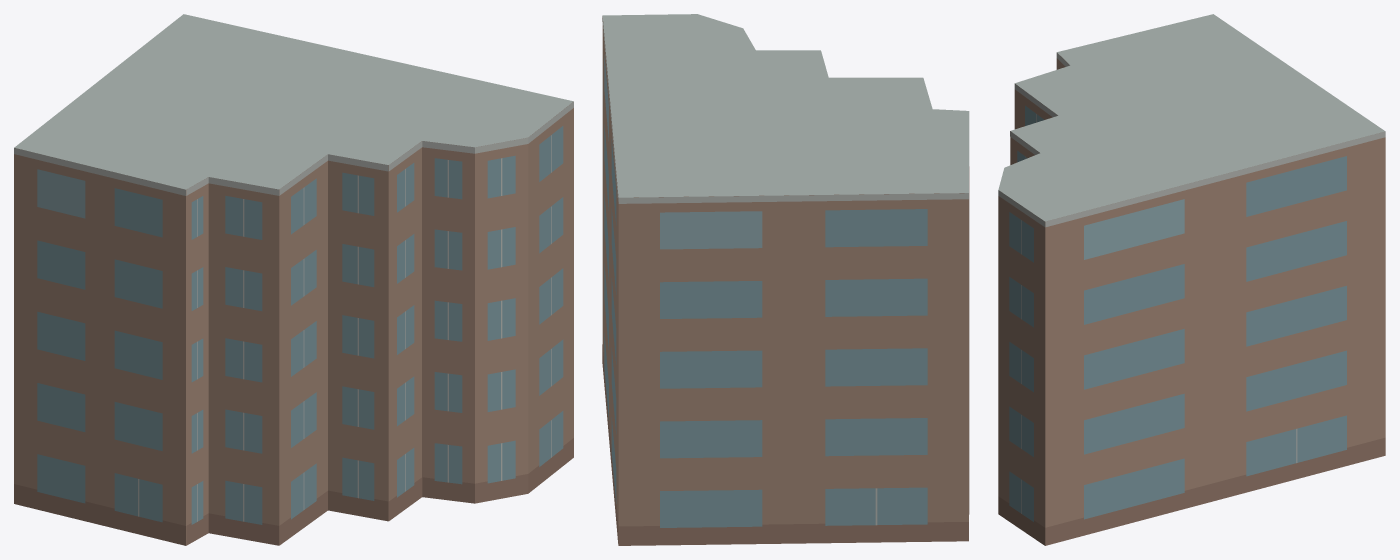
Rendered from survey-upis-32768929.glb.
3 views of the same model, side by side, from view 1: azimuth 30°, elevation 25°; view 2: azimuth 150°, elevation 25°; view 3: azimuth 270°, elevation 25° (orthographic). The views are drawn at different scales.
Visible parts, largest first — view 1: survey-upis-32768929.tmp; view 2: survey-upis-32768929.tmp; view 3: survey-upis-32768929.tmp.
Boxes of the visible parts, x1=… form: survey-upis-32768929.tmp: x1=14, y1=14, x2=573, y2=545; survey-upis-32768929.tmp: x1=602, y1=14, x2=969, y2=545; survey-upis-32768929.tmp: x1=998, y1=14, x2=1385, y2=545.
Bounding box in the file's own units: 18.61 × 13.55 × 14.67.
